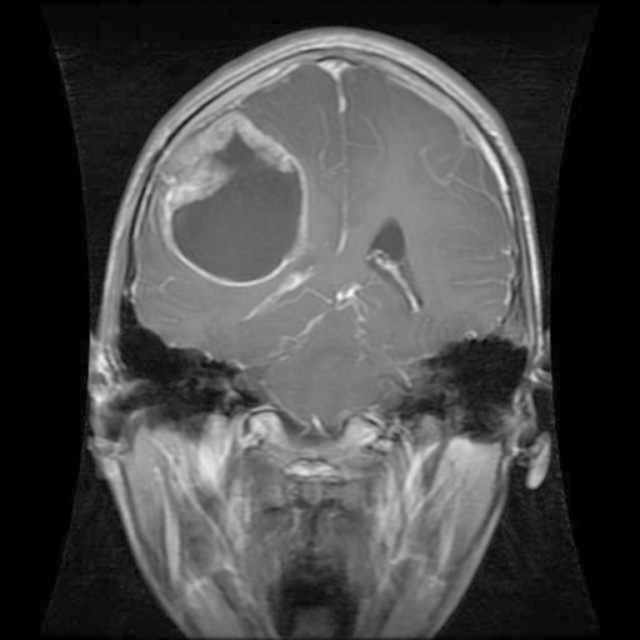pituitary tumor: (154, 110, 306, 281)
